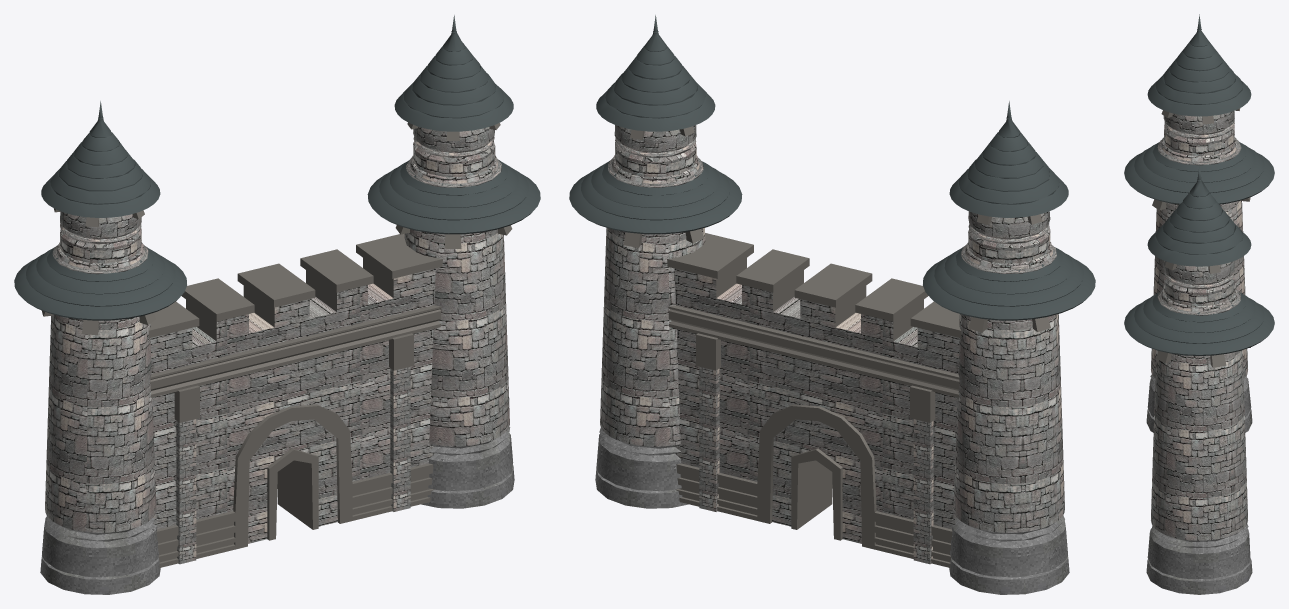
Rendered from gate.glb.
The picture shows the model from 3 angles, left to right: view 1: azimuth 30°, elevation 25°; view 2: azimuth 150°, elevation 25°; view 3: azimuth 270°, elevation 25°; orthographic projection. The views are drawn at different scales.
Parts seen in each view (by area): view 1: Tower_stone_0, Wall_angle_0, Roof_Roof_0, Tower_Cement_0; view 2: Tower_stone_0, Wall_angle_0, Roof_Roof_0, Tower_Cement_0; view 3: Tower_stone_0, Roof_Roof_0, Tower_Cement_0, Wall_angle_0.
Boxes of the visible parts, x1,y1,x2,y2 form: Tower_stone_0: (45, 126, 509, 564); Wall_angle_0: (41, 122, 512, 567); Roof_Roof_0: (14, 15, 540, 320); Tower_Cement_0: (40, 427, 514, 594); Tower_stone_0: (600, 125, 1064, 564); Wall_angle_0: (596, 126, 1050, 567); Roof_Roof_0: (569, 15, 1095, 320); Tower_Cement_0: (595, 427, 1069, 594); Tower_stone_0: (1151, 111, 1247, 540); Roof_Roof_0: (1124, 14, 1274, 355); Tower_Cement_0: (1146, 373, 1252, 594); Wall_angle_0: (1152, 108, 1250, 367).
Size of the model in its own units: 12.01 by 10.7 by 3.58.
Materials: 4 (3 with a texture image).
